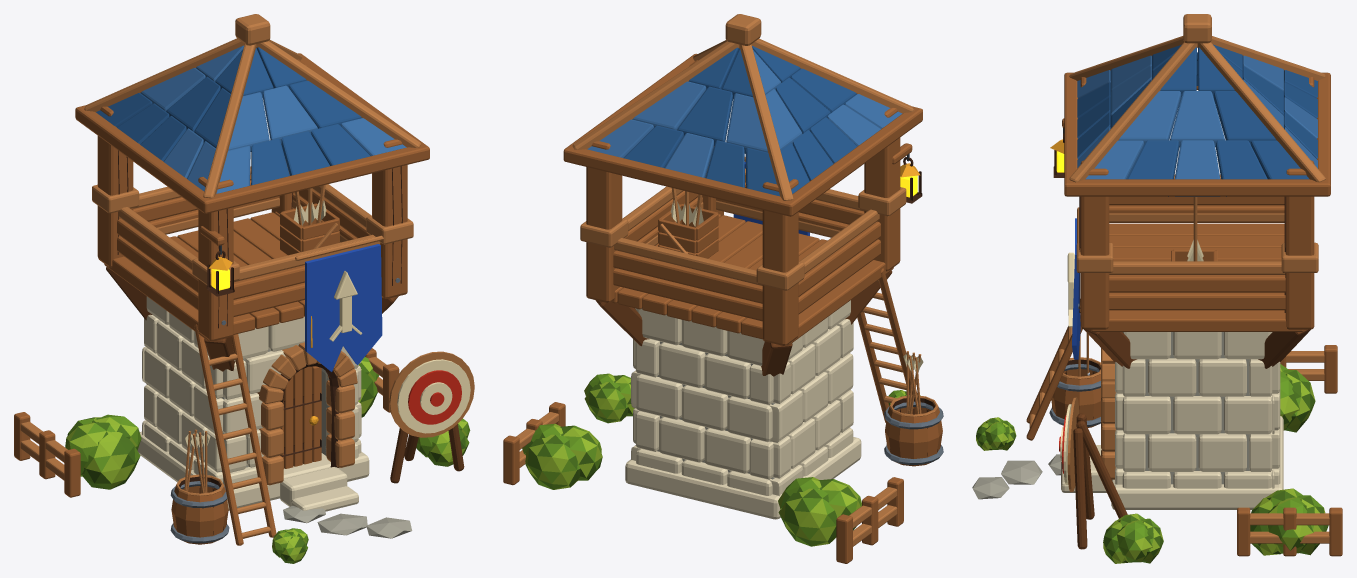
The model's file is arrow_tower.glb.
3 renders of one model, left to right at view 1: azimuth 30°, elevation 25°; view 2: azimuth 150°, elevation 25°; view 3: azimuth 270°, elevation 25°, orthographic. The views are drawn at different scales.
Parts seen in each view (by area): view 1: Cloth heraldic banner, Roof eave beam, Lookout upright.002, Lookout upright, Lookout upright.001, Roof eave beam.003, Projecting tower foundation, Leaf cluster.004, Open barrel staves.001, Hip ridge beam.001, Upper lookout deck plank, Target ring.006 (+80 smaller); view 2: Projecting tower foundation, Lookout upright.001, Roof eave beam.002, Lookout upright.003, Roof eave beam.003, Lookout upright, Lookout rear parapet plank.001, Lookout rear parapet plank, Leaf cluster.007, Leaf cluster.011, Hip ridge beam.002, Open barrel staves.001 (+84 smaller); view 3: Roof eave beam.001, Upper lookout deck plank.007, Lookout upright.003, Lookout upright.002, Projecting tower foundation, Lookout side parapet plank.001, Lookout side parapet plank.003, Lookout railing.007, Hip ridge beam.001, Hip ridge beam.002, Upper lookout deck plank, Tapered solid hip roof shingle.016 (+78 smaller).
Boxes of the visible parts, left/top/right/bottom form: Cloth heraldic banner: left=305, top=244, right=382, bottom=371; Roof eave beam: left=202, top=143, right=429, bottom=213; Lookout upright.002: left=372, top=139, right=407, bottom=298; Lookout upright: left=198, top=177, right=233, bottom=341; Lookout upright.001: left=97, top=106, right=133, bottom=267; Roof eave beam.003: left=75, top=110, right=214, bottom=212; Projecting tower foundation: left=137, top=431, right=369, bottom=510; Leaf cluster.004: left=82, top=432, right=140, bottom=489; Open barrel staves.001: left=171, top=482, right=228, bottom=544; Hip ridge beam.001: left=256, top=41, right=421, bottom=147; Upper lookout deck plank: left=104, top=256, right=209, bottom=340; Target ring.006: left=397, top=359, right=470, bottom=433; Projecting tower foundation: left=625, top=437, right=861, bottom=519; Lookout upright.001: left=762, top=179, right=798, bottom=345; Roof eave beam.002: left=563, top=149, right=797, bottom=216; Lookout upright.003: left=586, top=141, right=622, bottom=302; Roof eave beam.003: left=781, top=106, right=922, bottom=216; Lookout upright: left=864, top=108, right=900, bottom=271; Lookout rear parapet plank.001: left=613, top=250, right=762, bottom=303; Lookout rear parapet plank: left=613, top=268, right=762, bottom=321; Leaf cluster.007: left=778, top=488, right=837, bottom=546; Leaf cluster.011: left=525, top=434, right=580, bottom=489; Hip ridge beam.002: left=572, top=41, right=739, bottom=149; Open barrel staves.001: left=885, top=403, right=942, bottom=466; Roof eave beam.001: left=1065, top=179, right=1330, bottom=196; Upper lookout deck plank.007: left=1091, top=310, right=1303, bottom=331; Lookout upright.003: left=1285, top=160, right=1314, bottom=329; Lookout upright.002: left=1080, top=160, right=1109, bottom=329; Projecting tower foundation: left=1111, top=416, right=1283, bottom=509; Lookout side parapet plank.001: left=1109, top=292, right=1285, bottom=310; Lookout side parapet plank.003: left=1109, top=275, right=1285, bottom=292; Lookout railing.007: left=1109, top=261, right=1285, bottom=274; Hip ridge beam.001: left=1069, top=42, right=1197, bottom=182; Hip ridge beam.002: left=1197, top=42, right=1325, bottom=182; Upper lookout deck plank: left=1109, top=223, right=1284, bottom=235; Tapered solid hip roof shingle.016: left=1170, top=91, right=1224, bottom=147.
Bounding box in the file's own units: 4.09 × 5.05 × 3.61.
